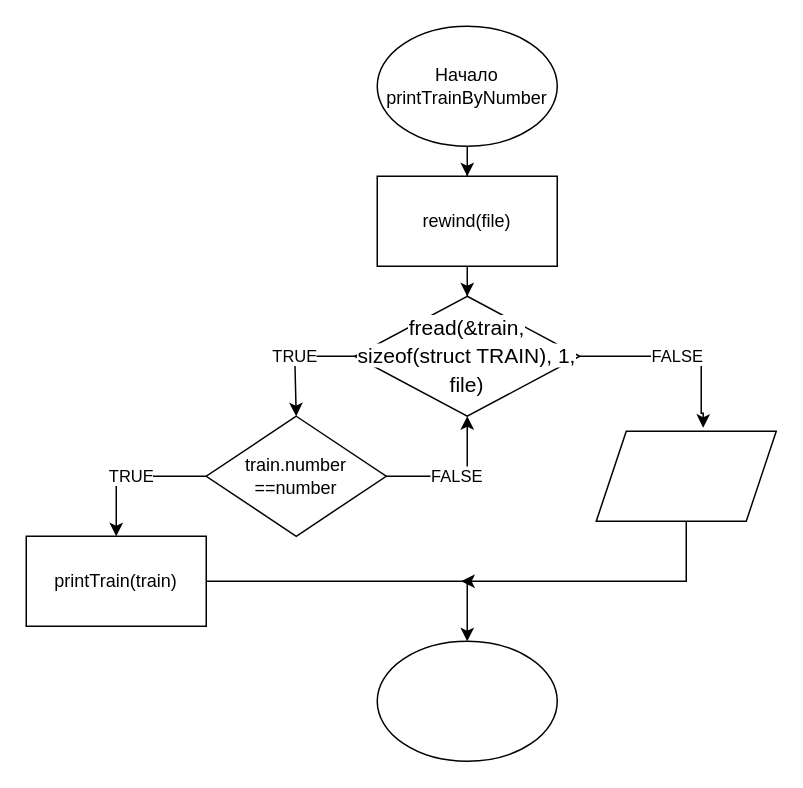
The diagram is 803 pixels wide and 788 high, and some of its shapes have lost their labels. The box of each missing label's shape, as (x1, y1, x2, y2) in pixels:
"No train": (595, 430, 776, 521)
Конец: (376, 640, 557, 761)
